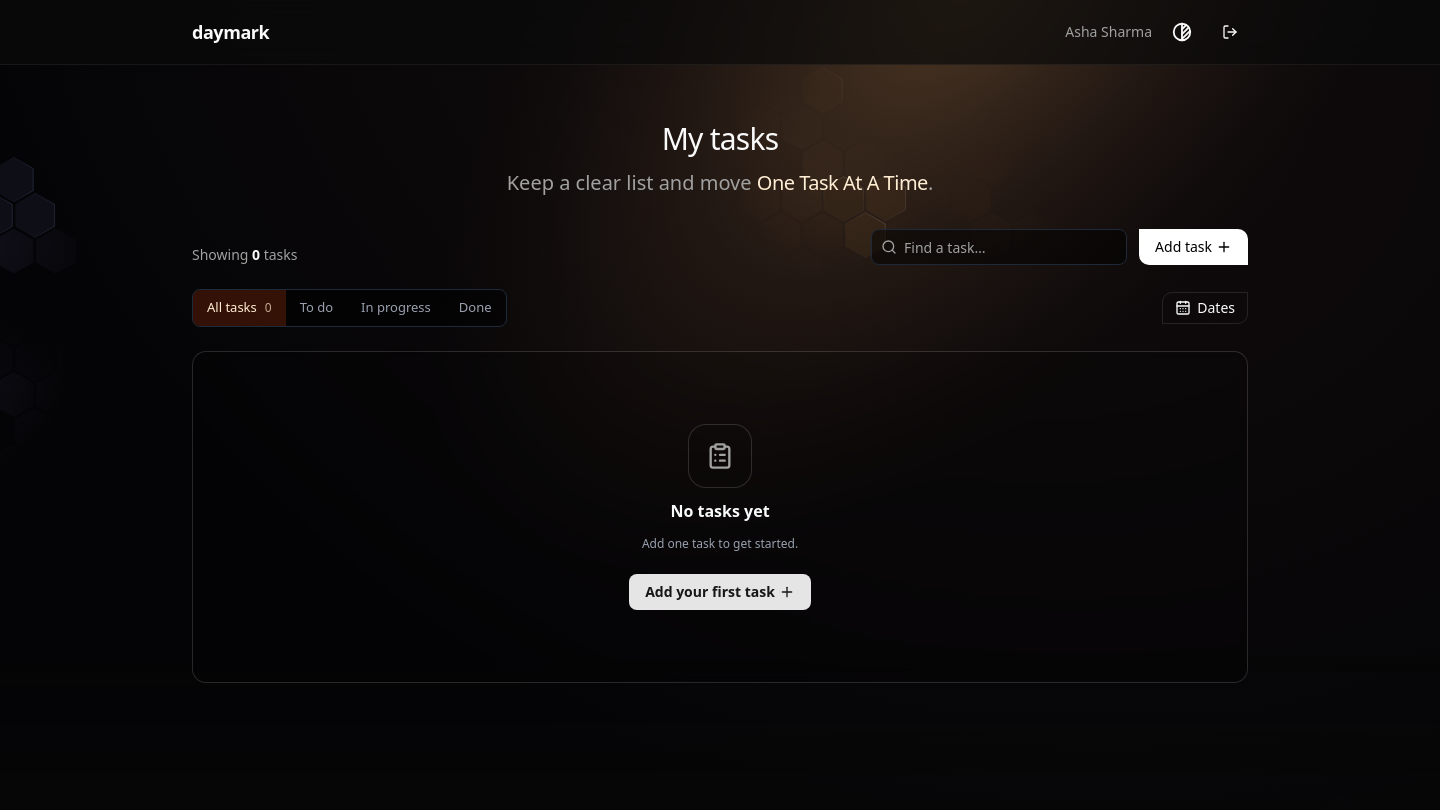
Test: task dashboard › opens the task form from the empty dashboard state
Click the button "Add your first task" at coordinates (720, 592), box [629,574,811,610]
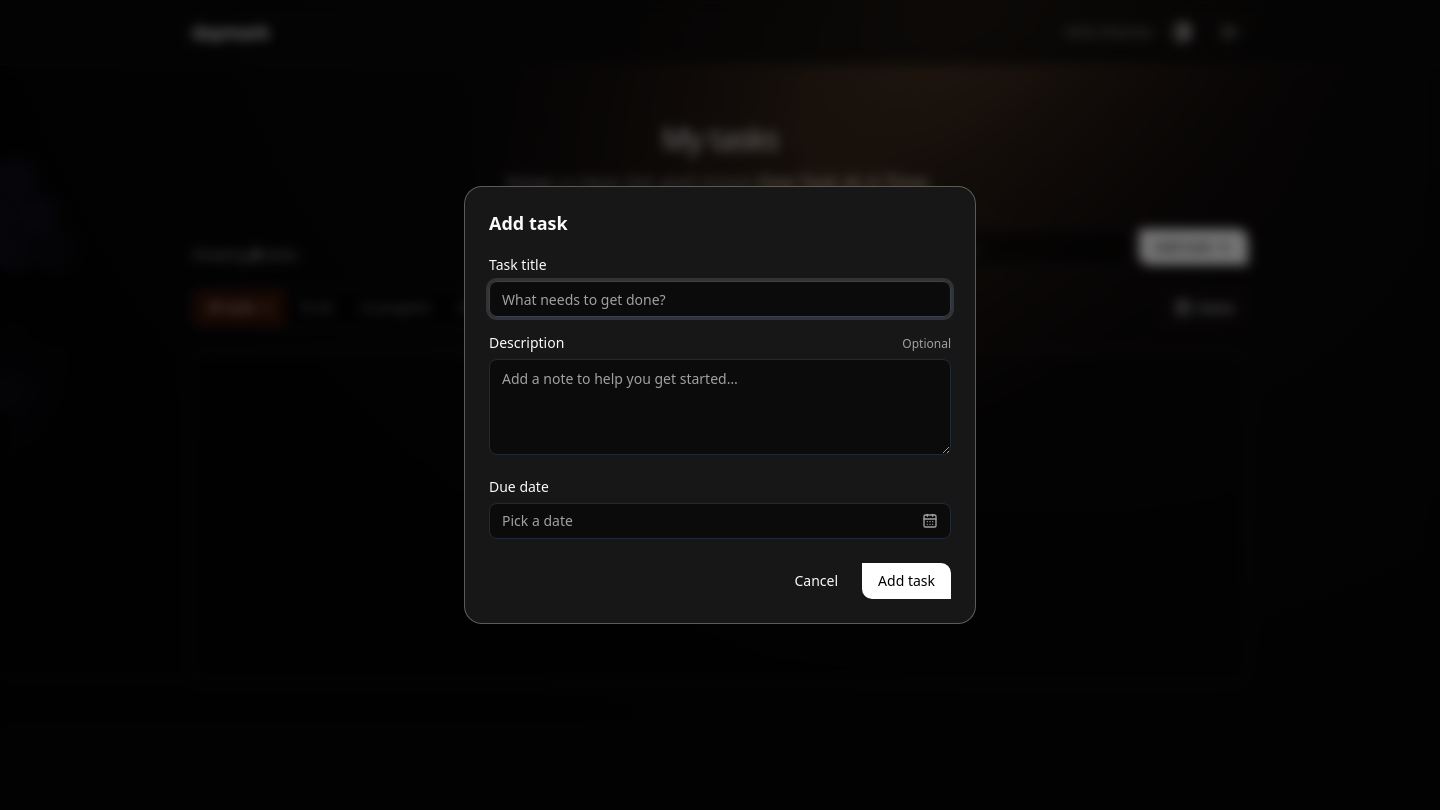
expect the dialog "Add task" is shown: met, box [464,186,976,624]
expect the field labelled "Task title" is shown: met, box [489,281,951,317]
